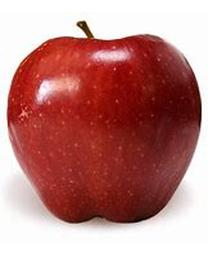apple: (5, 23, 201, 223)
